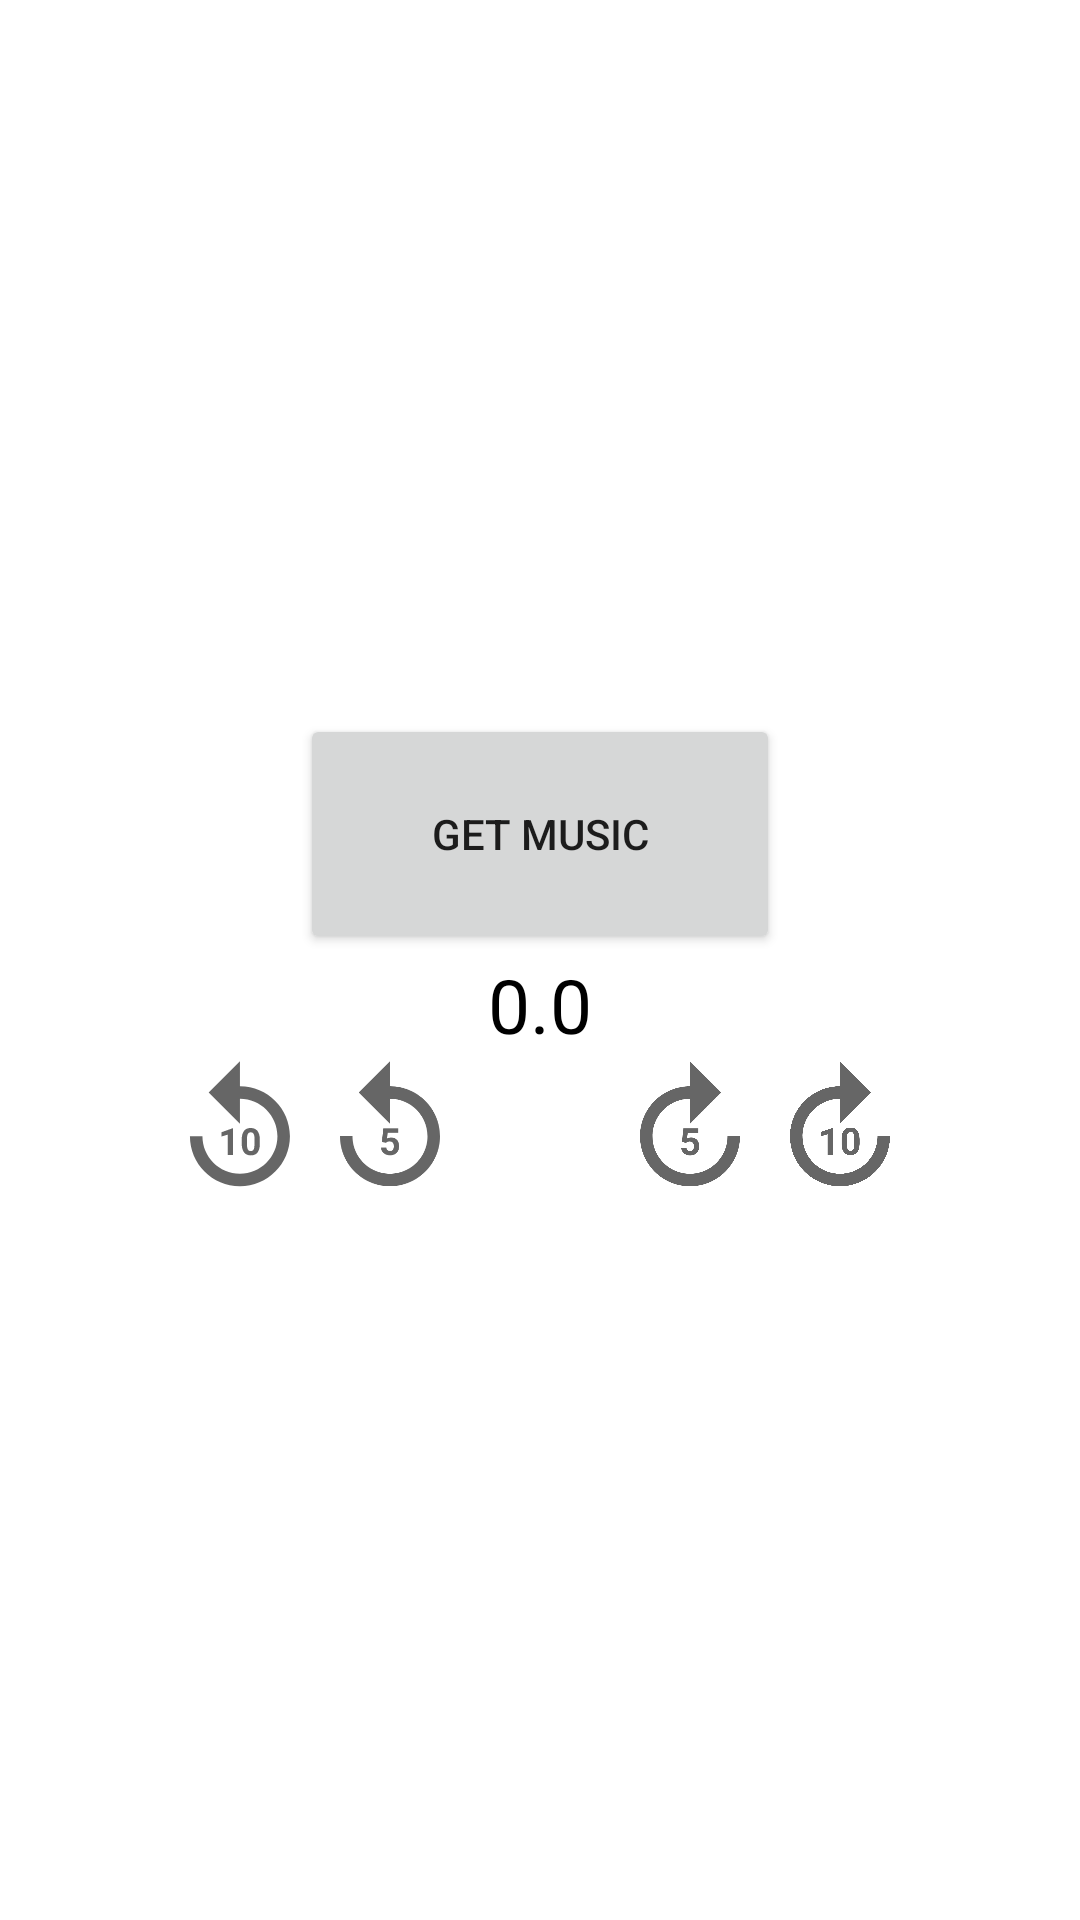

Icons on this 1080 × 1920 Android screen, each with its box as bbox=[x1, y1, x2, y2]:
backword: bbox=[190, 1061, 290, 1187], bbox=[340, 1061, 440, 1186]
forward: bbox=[640, 1062, 740, 1186], bbox=[790, 1062, 890, 1186]
